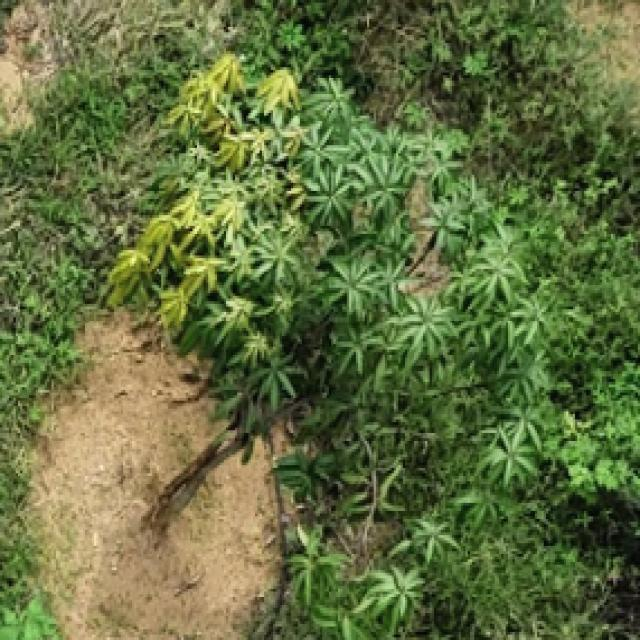mangoTree: (103, 51, 544, 640)
